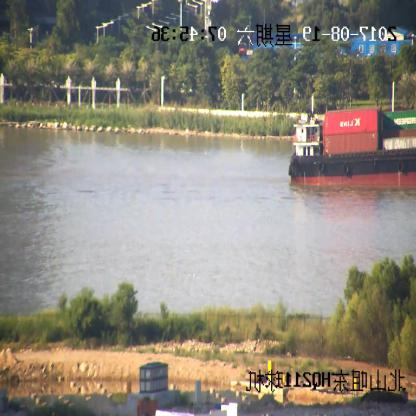Container Ship: (288, 105, 416, 187)
